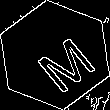M_NW: (19, 21, 91, 89)
